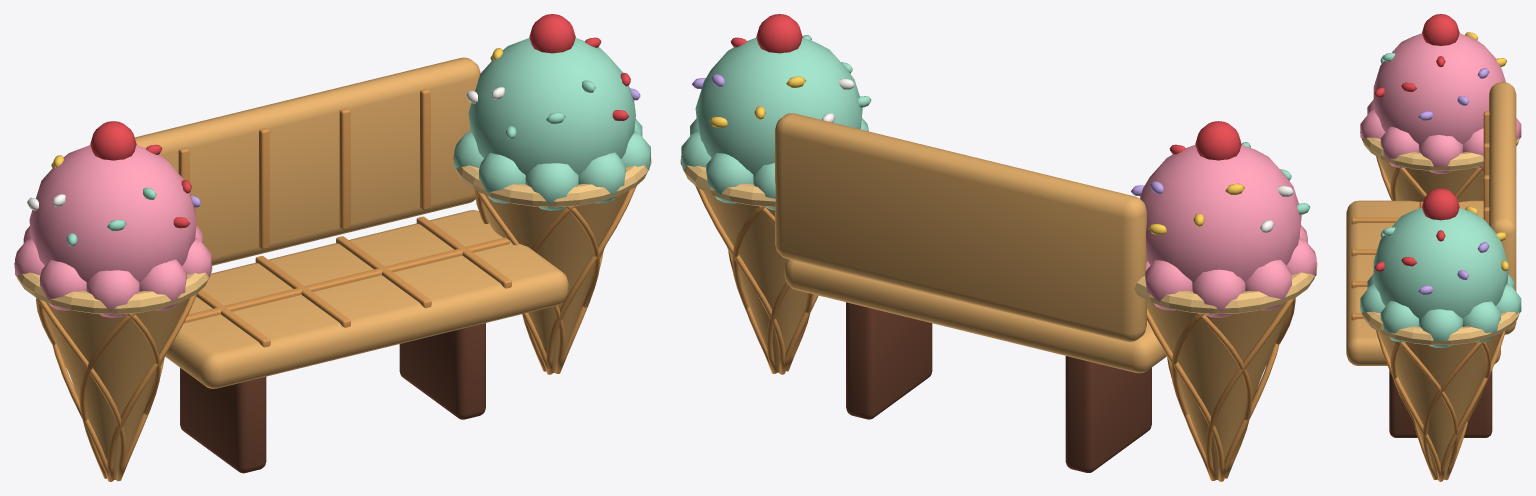
File: cone_bench.fbx
3 views of the same model, side by side, from view 1: azimuth 30°, elevation 25°; view 2: azimuth 150°, elevation 25°; view 3: azimuth 270°, elevation 25° (orthographic). The views are drawn at different scales.
Parts seen in each view (by area): view 1: cone_bench_Waffle, cone_bench_Mint, cone_bench_Pink, cone_bench_Crust, cone_bench_Choc, cone_bench_CrustLight, cone_bench_Red; view 2: cone_bench_Waffle, cone_bench_Pink, cone_bench_Mint, cone_bench_Choc, cone_bench_Crust, cone_bench_CrustLight, cone_bench_Red, cone_bench_Yellow; view 3: cone_bench_Waffle, cone_bench_Mint, cone_bench_Pink, cone_bench_Crust, cone_bench_CrustLight, cone_bench_Red, cone_bench_Choc, cone_bench_Lilac, cone_bench_Yellow.
Part boxes in pixels (box(x1,y1,x2,y2)): cone_bench_Waffle: box(43, 57, 628, 479); cone_bench_Mint: box(66, 38, 650, 246); cone_bench_Pink: box(15, 145, 211, 317); cone_bench_Crust: box(36, 88, 636, 481); cone_bench_Choc: box(180, 323, 485, 473); cone_bench_CrustLight: box(14, 155, 651, 314); cone_bench_Red: box(90, 14, 630, 228); cone_bench_Waffle: box(703, 113, 1288, 479); cone_bench_Pink: box(1140, 145, 1316, 317); cone_bench_Mint: box(681, 35, 1310, 214); cone_bench_Choc: box(846, 302, 1151, 472); cone_bench_Crust: box(695, 186, 1295, 481); cone_bench_CrustLight: box(680, 156, 1317, 314); cone_bench_Red: box(730, 14, 1241, 160); cone_bench_Yellow: box(709, 76, 1244, 235); cone_bench_Waffle: box(1346, 82, 1516, 479); cone_bench_Mint: box(1360, 53, 1521, 347); cone_bench_Pink: box(1360, 33, 1521, 173); cone_bench_Crust: box(1351, 111, 1505, 481); cone_bench_CrustLight: box(1360, 132, 1521, 345); cone_bench_Red: box(1374, 14, 1459, 271); cone_bench_Choc: box(1389, 370, 1492, 437); cone_bench_Lilac: box(1418, 68, 1489, 294); cone_bench_Yellow: box(1465, 32, 1509, 271).
Size of the model in its own units: 33.34 by 18.55 by 10.2.
